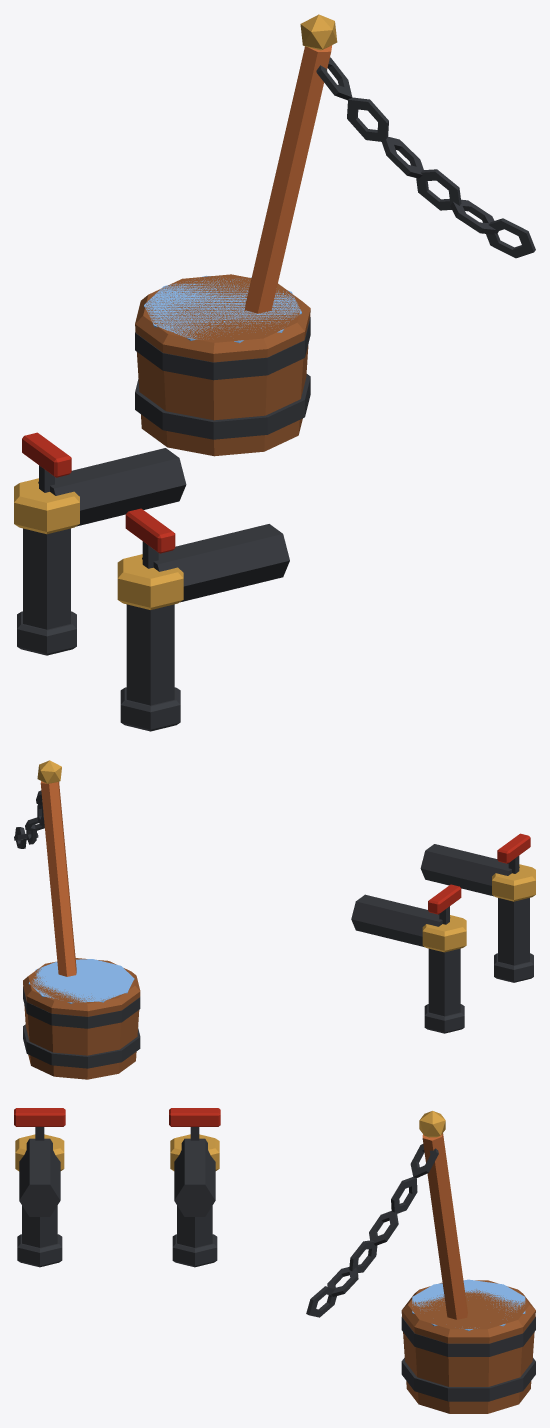
File: TeslaDressA2.obj
The picture shows the model from 3 angles, top to bottom: view 1: azimuth 30°, elevation 25°; view 2: azimuth 150°, elevation 25°; view 3: azimuth 270°, elevation 25°; orthographic projection. The views are drawn at different scales.
Parts seen in each view (by area): view 1: TeslaDressA2; view 2: TeslaDressA2; view 3: TeslaDressA2.
Boxes of the visible parts, x1=… form: TeslaDressA2: x1=14, y1=14, x2=535, y2=731; TeslaDressA2: x1=14, y1=760, x2=535, y2=1079; TeslaDressA2: x1=14, y1=1108, x2=535, y2=1413.
Bounding box in the file's own units: 0.9999 × 0.65 × 1.01.
